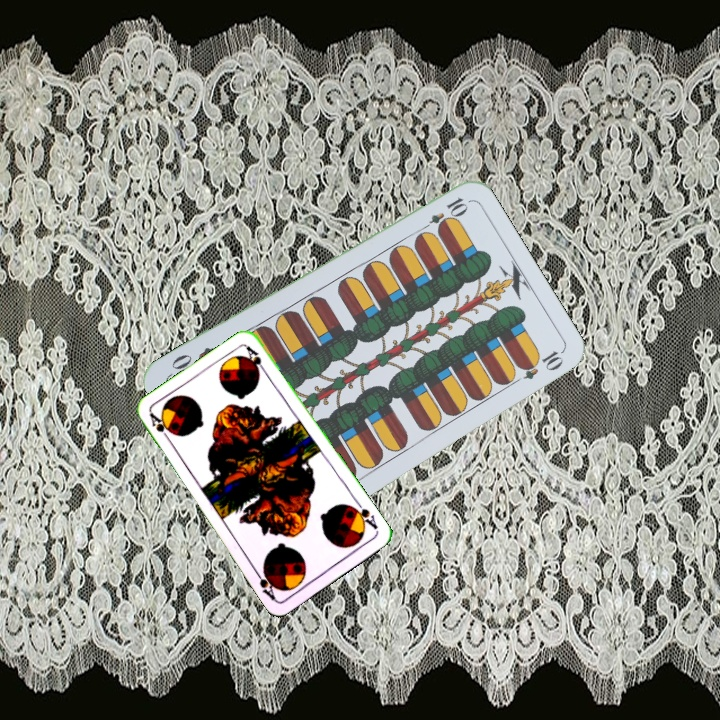E10: (416, 193, 470, 236)
SA: (347, 497, 380, 532), (146, 409, 174, 445)
